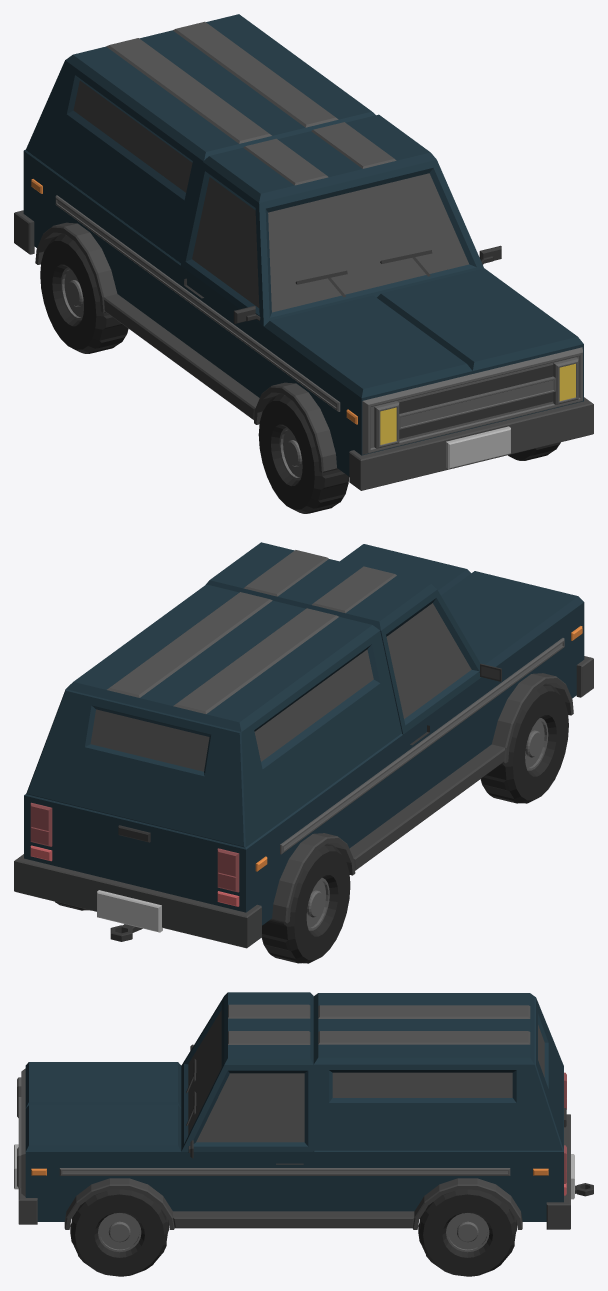
The model's file is suv.glb.
3 renders of one model, top to bottom at view 1: azimuth 30°, elevation 25°; view 2: azimuth 150°, elevation 25°; view 3: azimuth 270°, elevation 25°, orthographic. The views are drawn at different scales.
Parts seen in each view (by area): view 1: body, wheel_front_L, wheel_rear_L; view 2: body, wheel_rear_L, wheel_front_L; view 3: body, wheel_front_R, wheel_rear_R.
Boxes of the visible parts, bbox=[...] form: body: bbox=[14, 14, 593, 490]; wheel_front_L: bbox=[258, 393, 348, 513]; wheel_rear_L: bbox=[40, 233, 128, 353]; body: bbox=[14, 542, 593, 948]; wheel_rear_L: bbox=[261, 843, 350, 963]; wheel_front_L: bbox=[480, 683, 568, 803]; body: bbox=[14, 992, 593, 1229]; wheel_front_R: bbox=[70, 1189, 168, 1276]; wheel_rear_R: bbox=[418, 1189, 516, 1276].
Size of the model in its own units: 2.27 by 2.11 by 5.37.
Materials: 1 (1 with a texture image).
